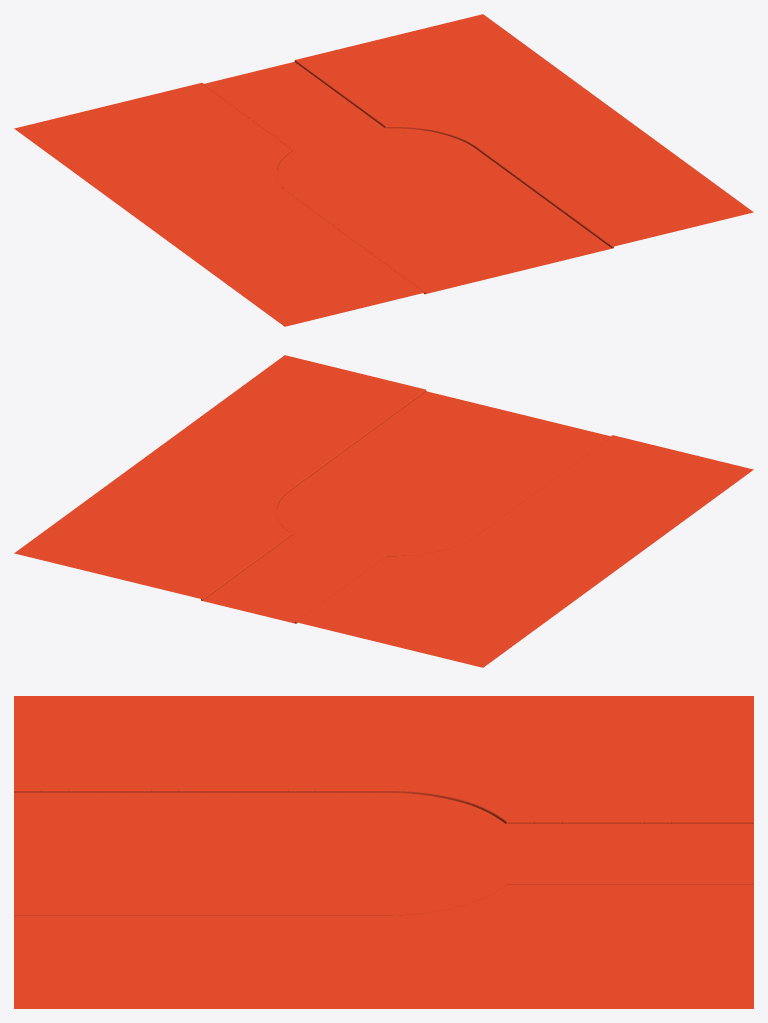
File: SM_MainroadToRoad_30x30_City.fbx
3 views of the same model, one above another, from view 1: azimuth 30°, elevation 25°; view 2: azimuth 150°, elevation 25°; view 3: azimuth 270°, elevation 25° (orthographic). The views are drawn at different scales.
Visible parts, largest first — view 1: SM_MainroadToRoad_30x30_City; view 2: SM_MainroadToRoad_30x30_City; view 3: SM_MainroadToRoad_30x30_City.
Part boxes in pixels (box(x1,y1,x2,y2)): SM_MainroadToRoad_30x30_City: box(14, 14, 753, 326); SM_MainroadToRoad_30x30_City: box(14, 355, 753, 667); SM_MainroadToRoad_30x30_City: box(14, 696, 753, 1008).
Size of the model in its own units: 30 by 0.1107 by 30.
